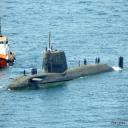submarine: (8, 31, 126, 91)
